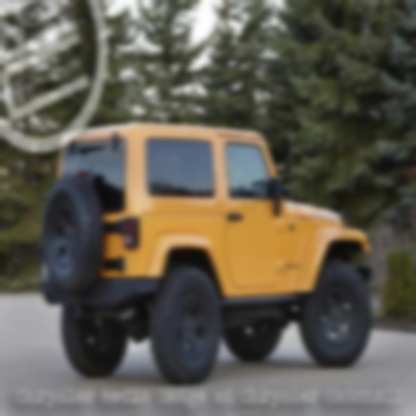Vehicle: (38, 121, 380, 394)
